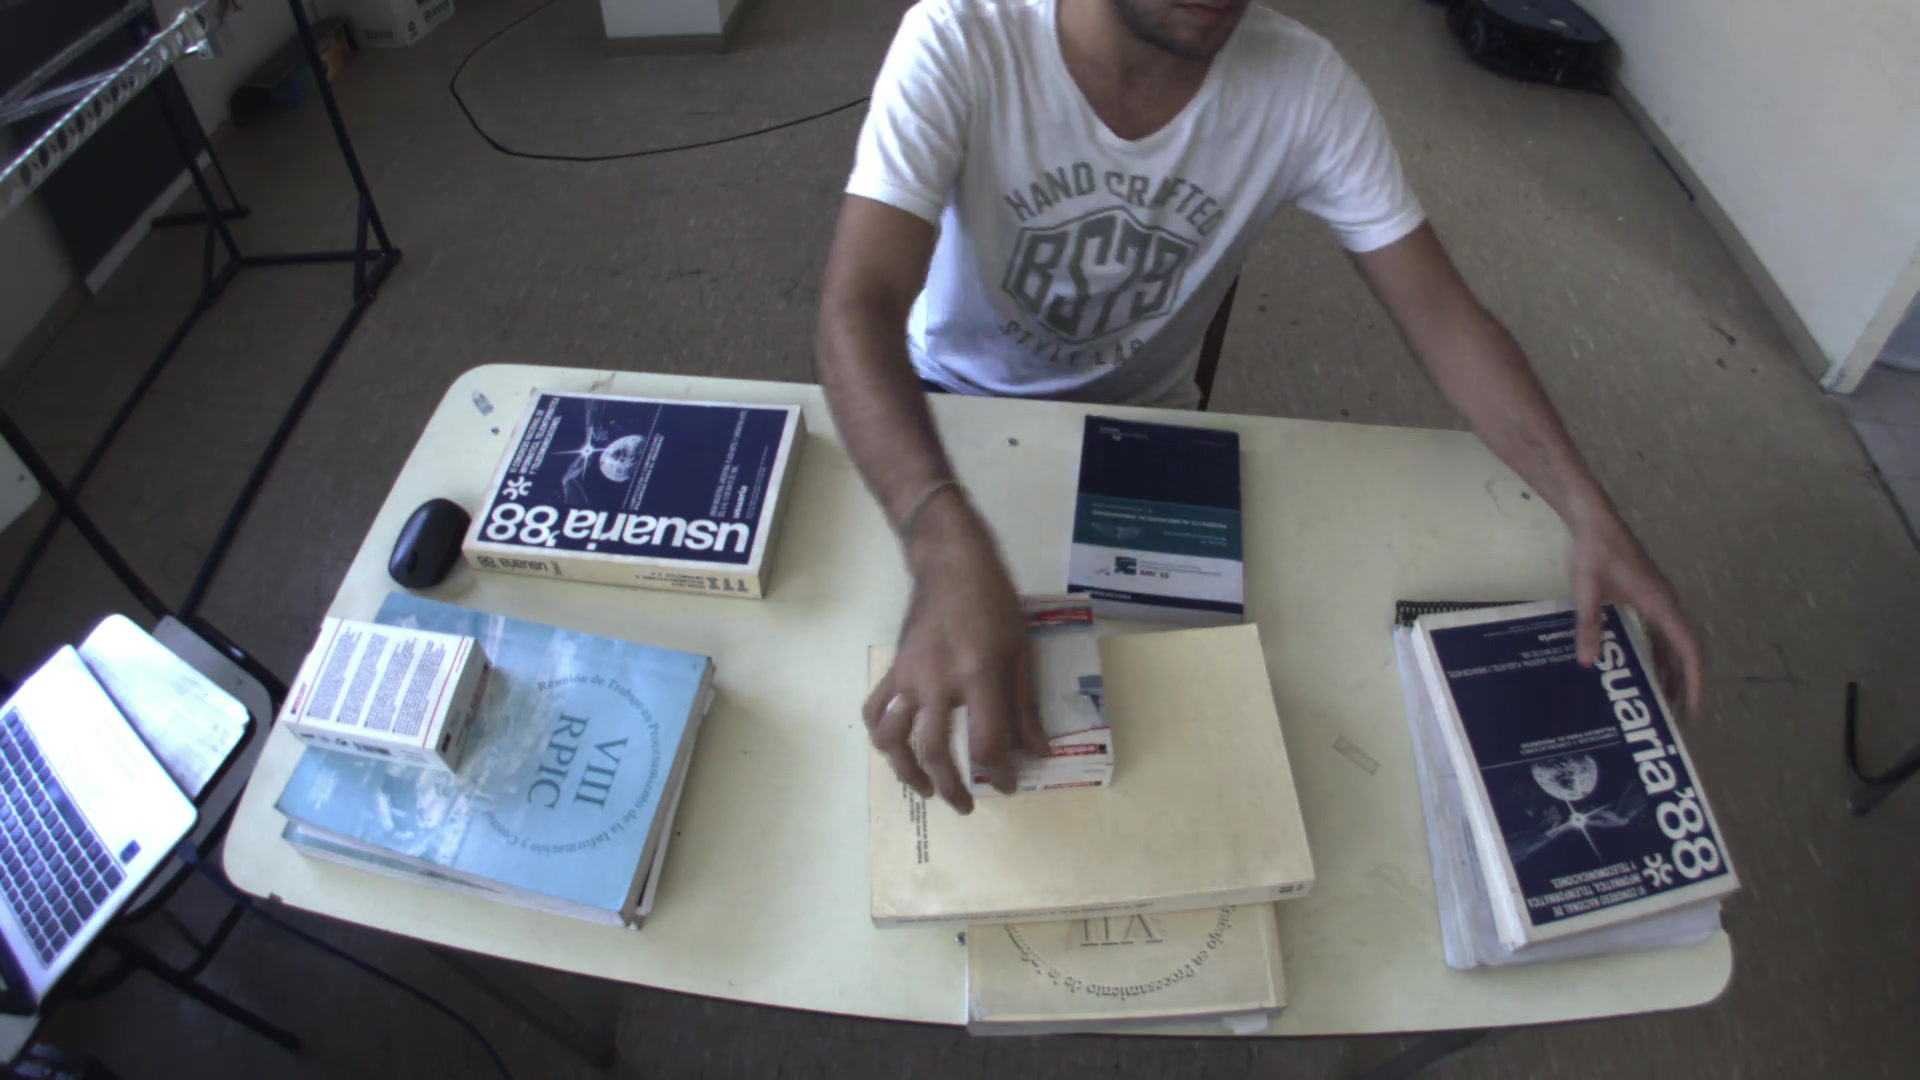hand: (857, 535, 1055, 832), (1545, 524, 1722, 717)
